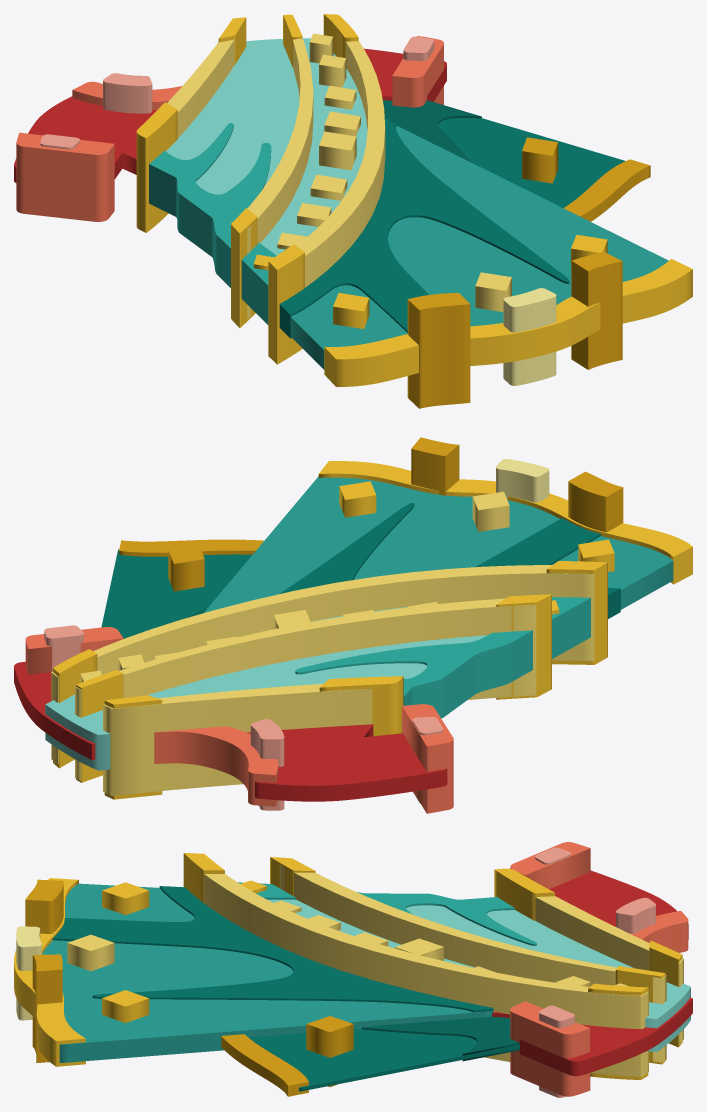
Rendered from emoji_u1f97b.glb.
3 views of the same model, one above another, from view 1: azimuth 30°, elevation 25°; view 2: azimuth 150°, elevation 25°; view 3: azimuth 270°, elevation 25° (orthographic). The views are drawn at different scales.
Parts seen in each view (by area): view 1: emoji_u1f97b; view 2: emoji_u1f97b; view 3: emoji_u1f97b.
Part boxes in pixels (x1=…): emoji_u1f97b: x1=14, y1=14, x2=692, y2=408; emoji_u1f97b: x1=14, y1=437, x2=692, y2=813; emoji_u1f97b: x1=14, y1=842, x2=692, y2=1097.
Size of the model in its own units: 0.0255 by 0.005 by 0.0336.
